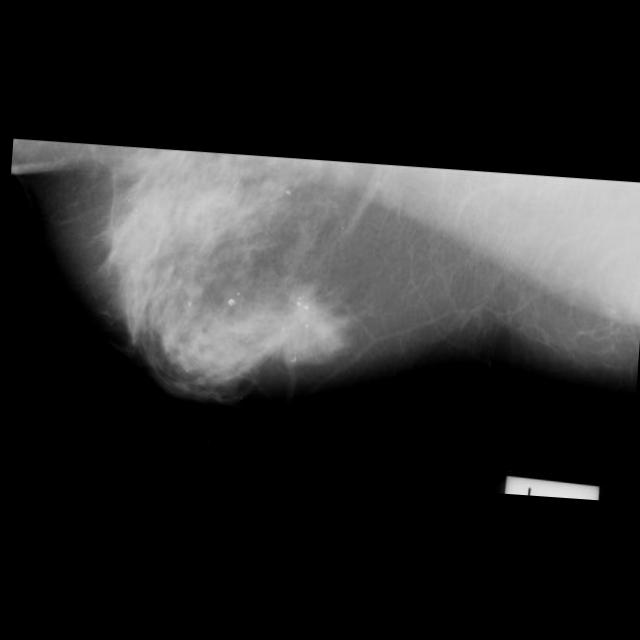ARCH: (247, 249, 356, 359)
